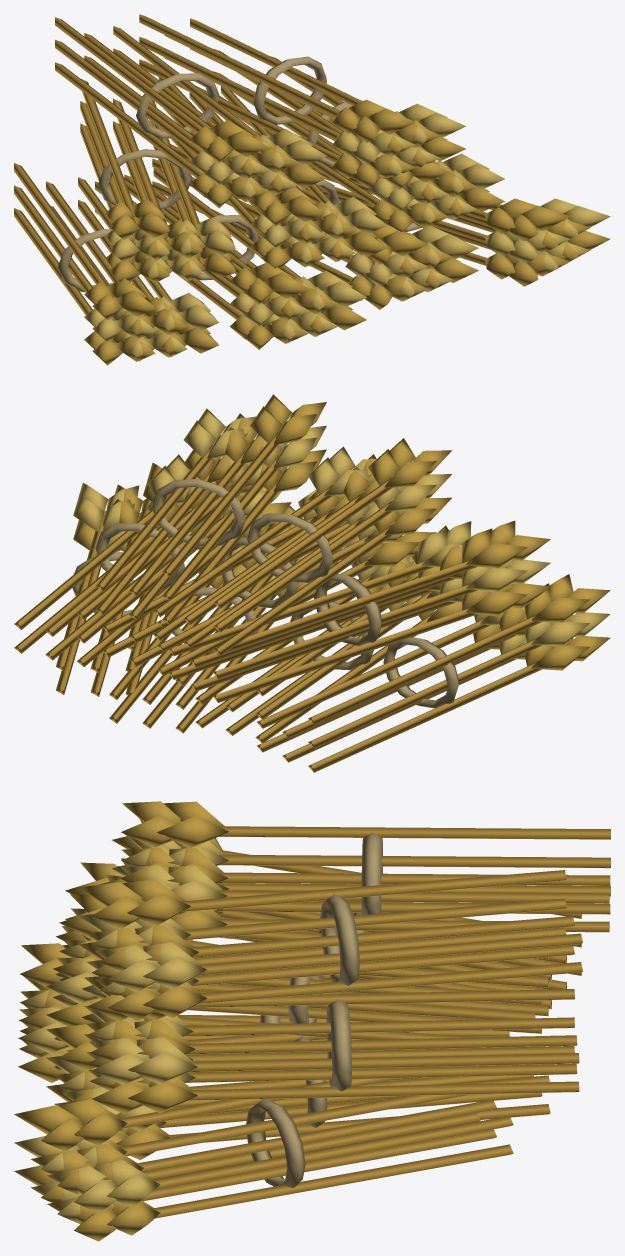
File: pile-wheat-9.gltf
3 views of the same model, one above another, from view 1: azimuth 30°, elevation 25°; view 2: azimuth 150°, elevation 25°; view 3: azimuth 270°, elevation 25° (orthographic). The views are drawn at different scales.
Parts seen in each view (by area): view 1: pile-wheat-9; view 2: pile-wheat-9; view 3: pile-wheat-9.
Boxes of the visible parts, bbox=[...] form: pile-wheat-9: bbox=[14, 14, 610, 365]; pile-wheat-9: bbox=[14, 394, 610, 772]; pile-wheat-9: bbox=[14, 801, 610, 1241].
Bounding box in the file's own units: 0.7706 × 0.2718 × 0.6251.
